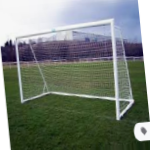goals: (16, 17, 134, 120)
